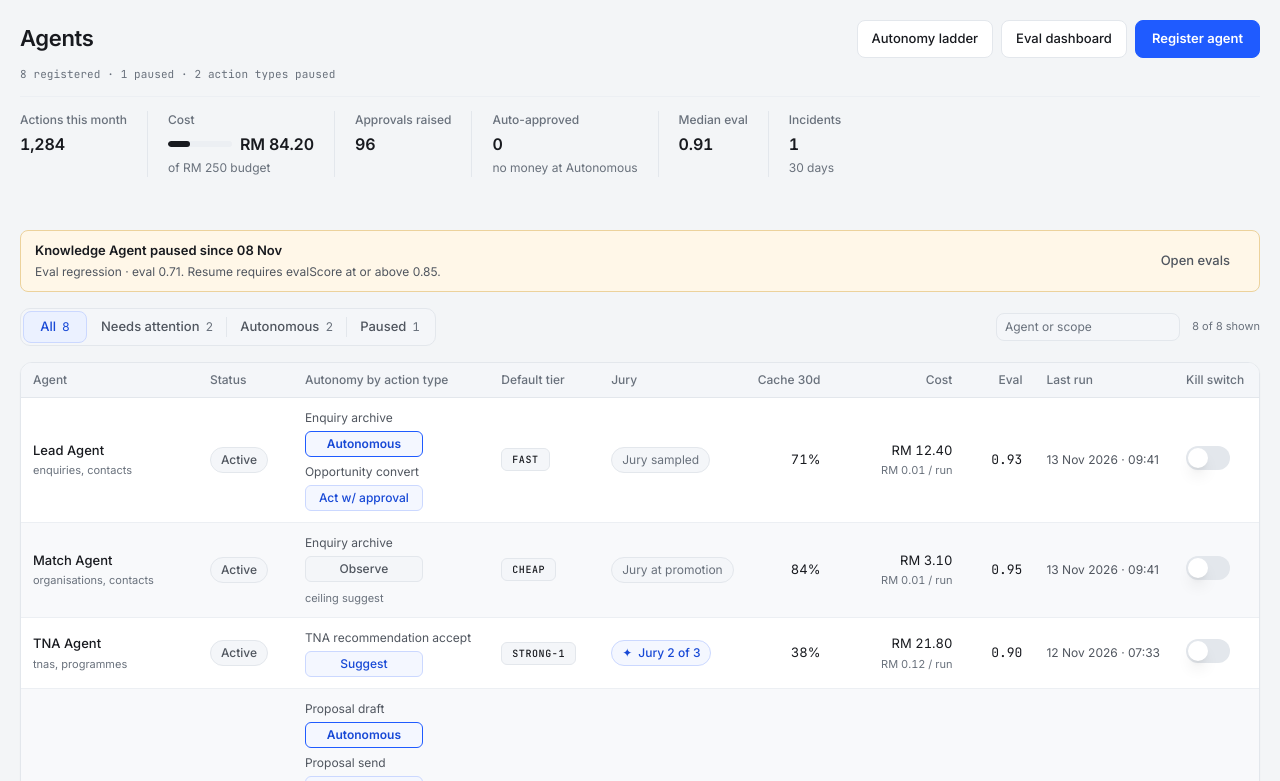
Test case: M18-S01 · agent registry › filters to the agents that need attention
Click the tab "Needs attention 2" at [157, 326], box [88,310,226,342]
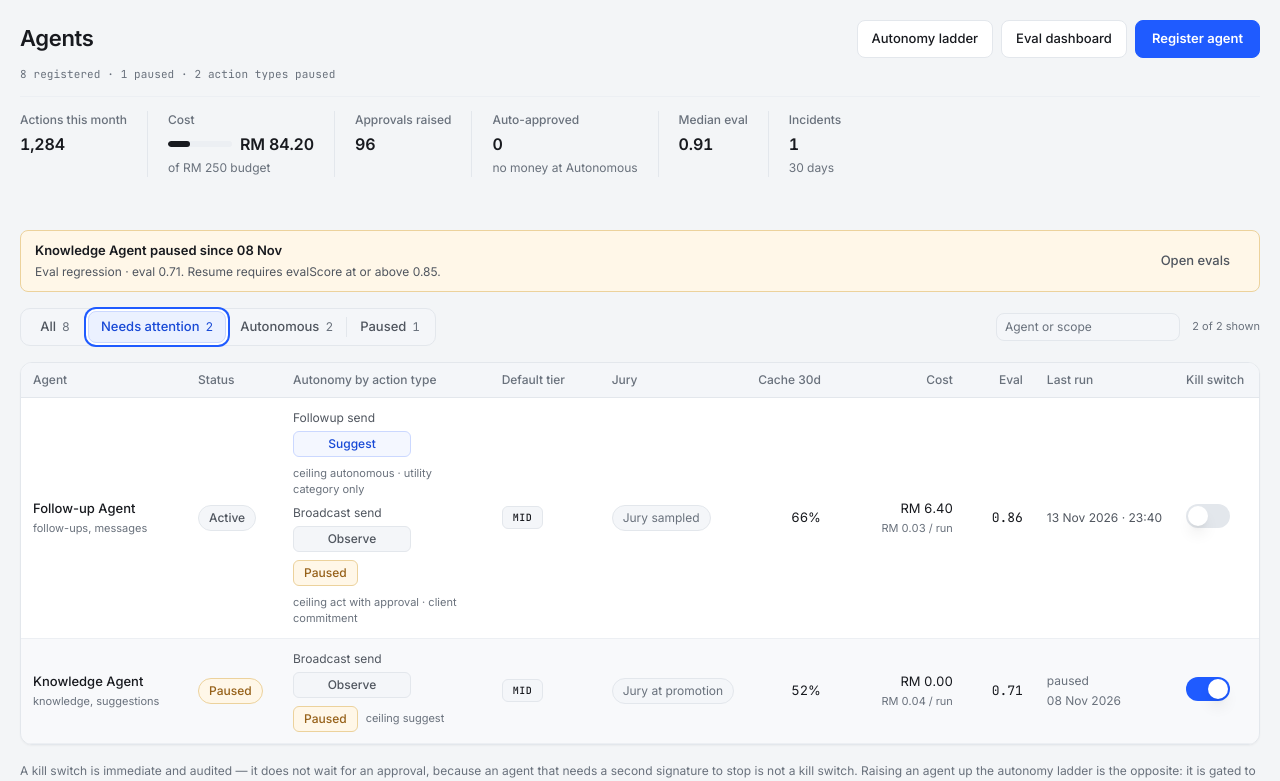
Check: the text "Knowledge Agent" is shown, box [33,672,143,688]
Check: the text "Match Agent" is gone
